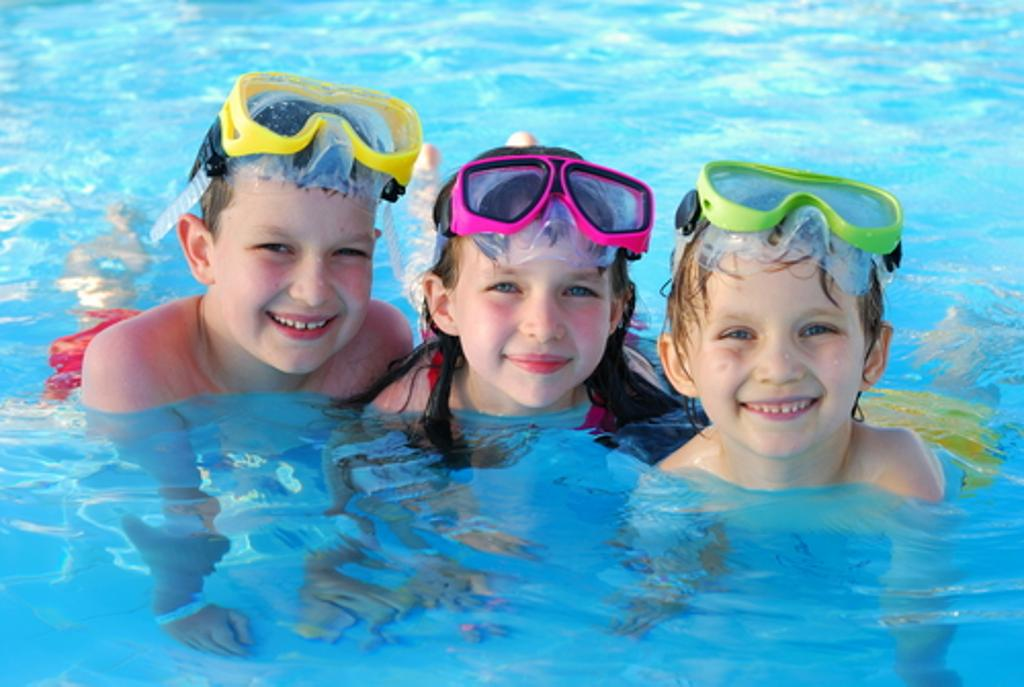face: (224, 156, 380, 368), (460, 198, 610, 400), (696, 268, 854, 454)
